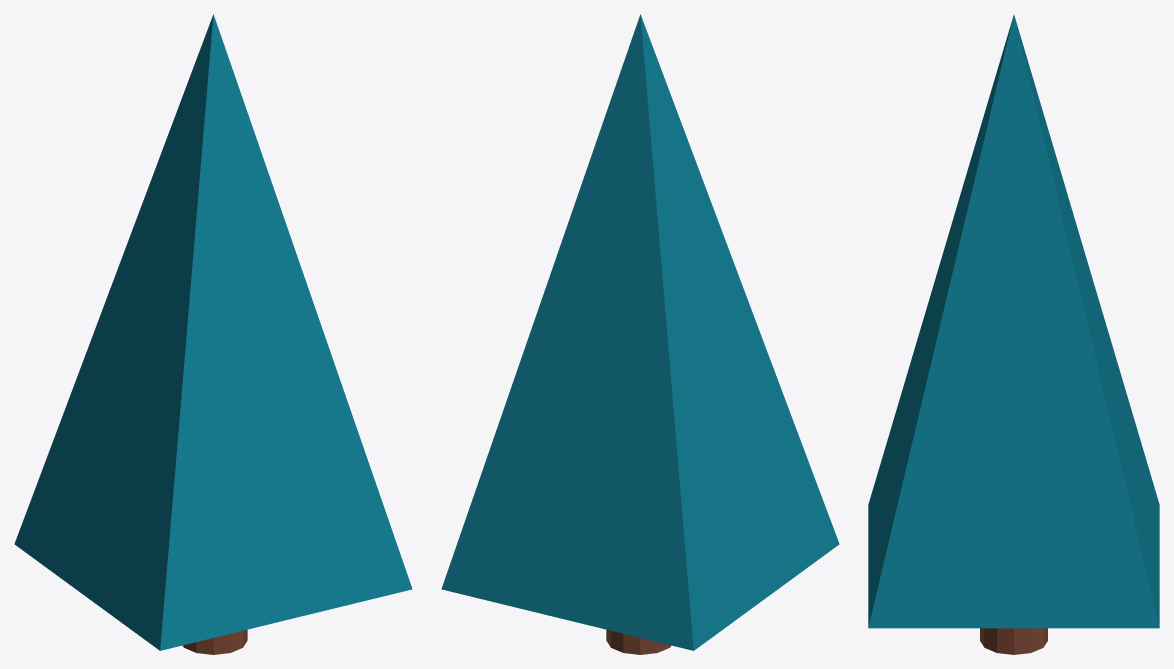
File: Tree_36_summer_blue_mat.fbx
3 views of the same model, side by side, from view 1: azimuth 30°, elevation 25°; view 2: azimuth 150°, elevation 25°; view 3: azimuth 270°, elevation 25° (orthographic).
Visible parts, largest first — view 1: Tree_36_summer_blue_mat; view 2: Tree_36_summer_blue_mat; view 3: Tree_36_summer_blue_mat.
Part boxes in pixels (bbox=[...]): Tree_36_summer_blue_mat: bbox=[14, 14, 412, 654]; Tree_36_summer_blue_mat: bbox=[441, 14, 839, 654]; Tree_36_summer_blue_mat: bbox=[868, 15, 1159, 654].
Size of the model in its own units: 69.07 by 164 by 69.07.
